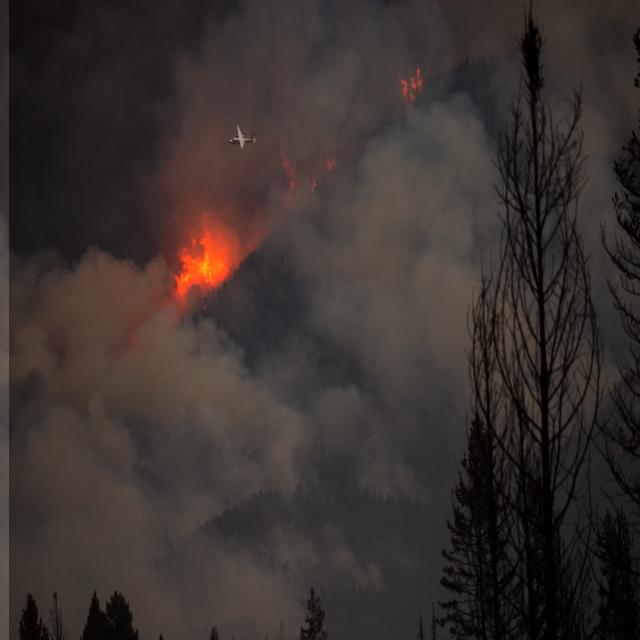Fire: (174, 226, 238, 304), (385, 64, 439, 115), (277, 140, 300, 218), (306, 152, 340, 191)
Smoke: (9, 0, 640, 640)
